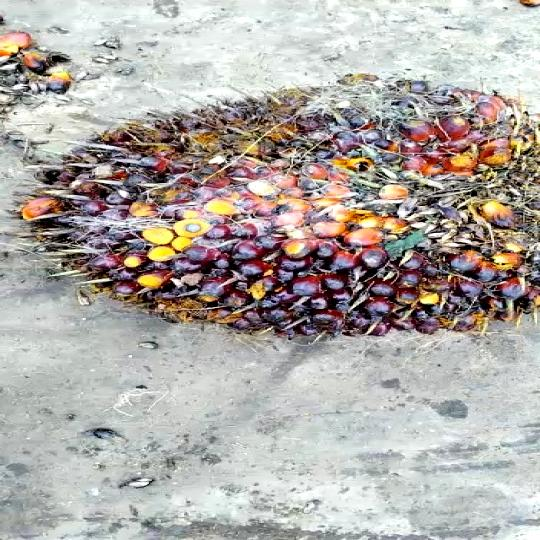masak: (16, 80, 540, 342)
